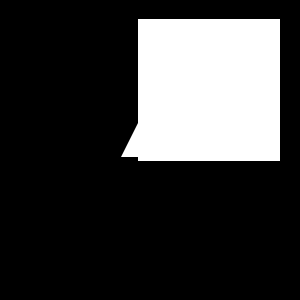circle: (138, 19, 280, 161)
rectangle: (182, 60, 255, 132)
triangle: (121, 46, 232, 157)
